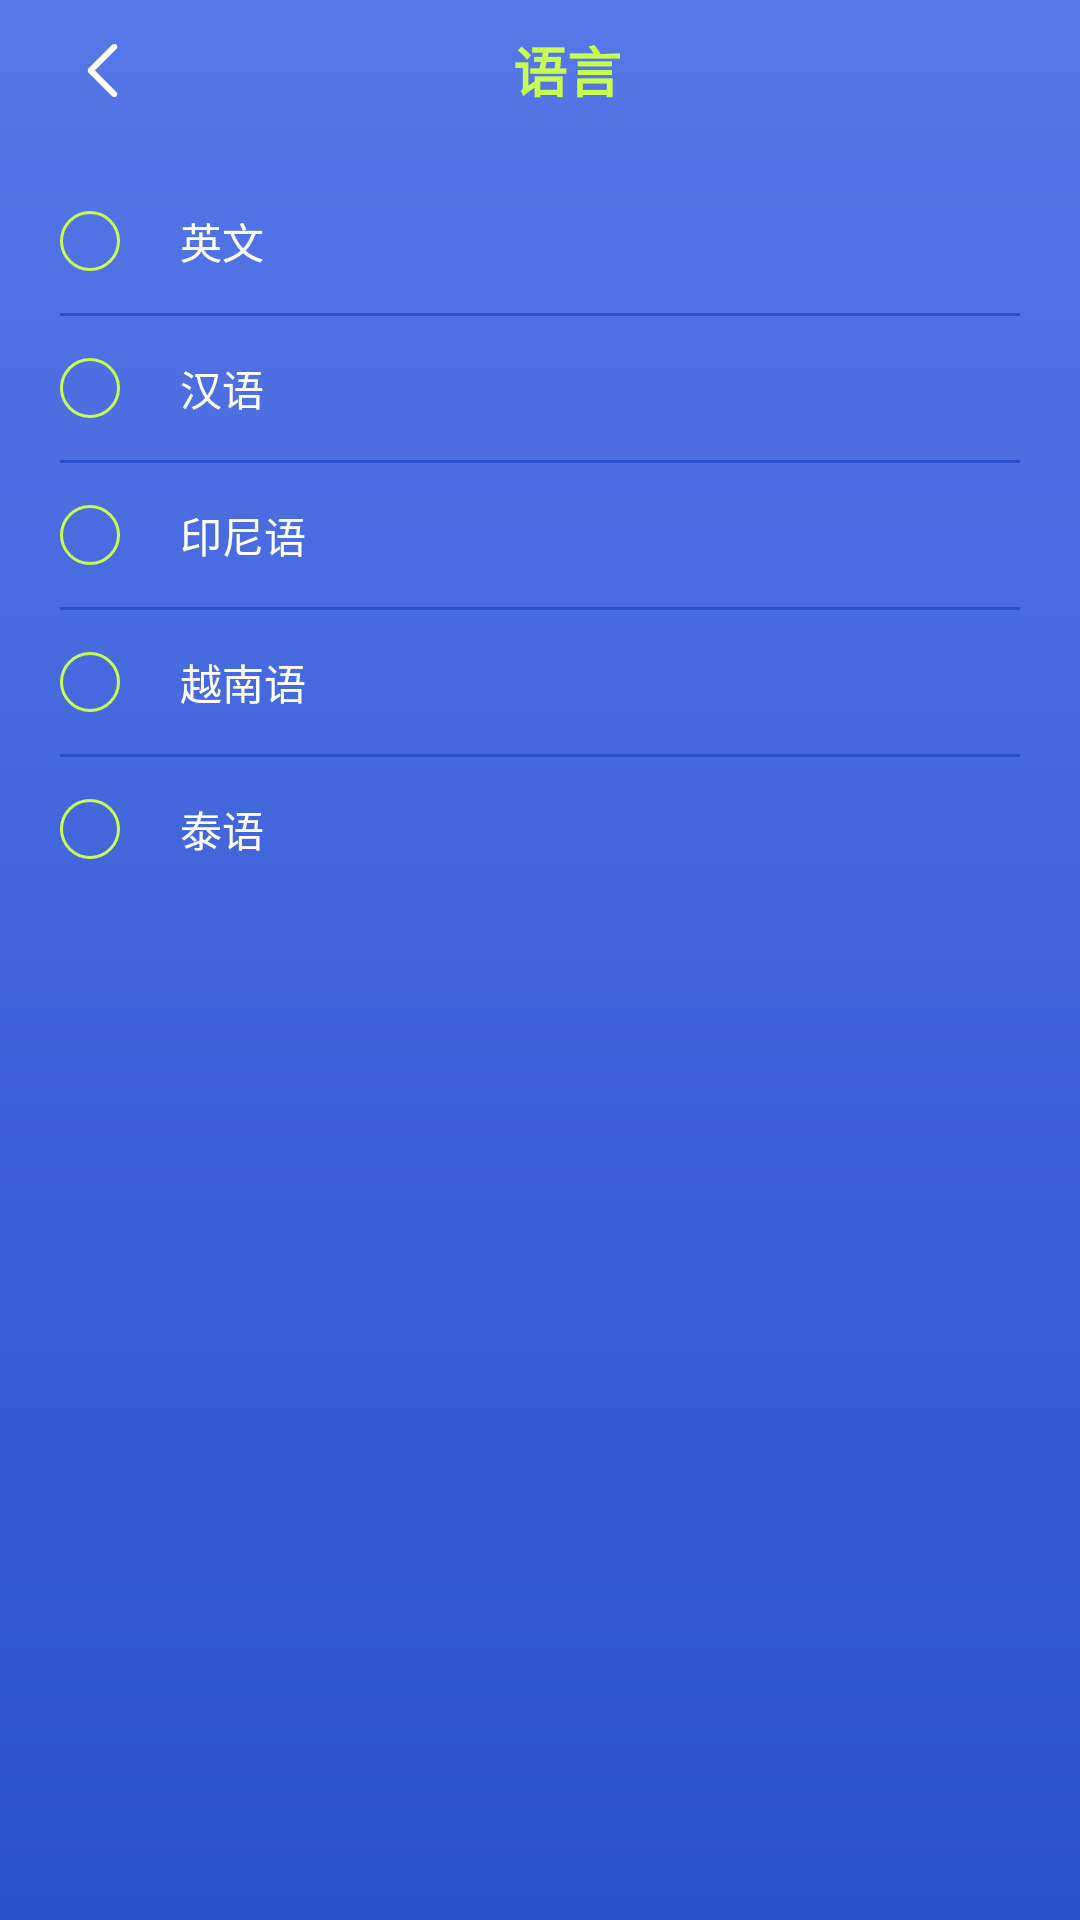

Named icons in this screenshot (1080px x 1920px) and their bounding boxes, (x1, y1, x2, y2):
back: (87, 44, 118, 97)
